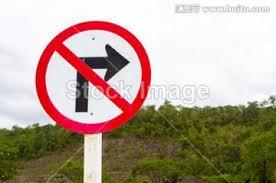no_right_turn: (34, 20, 150, 134)
